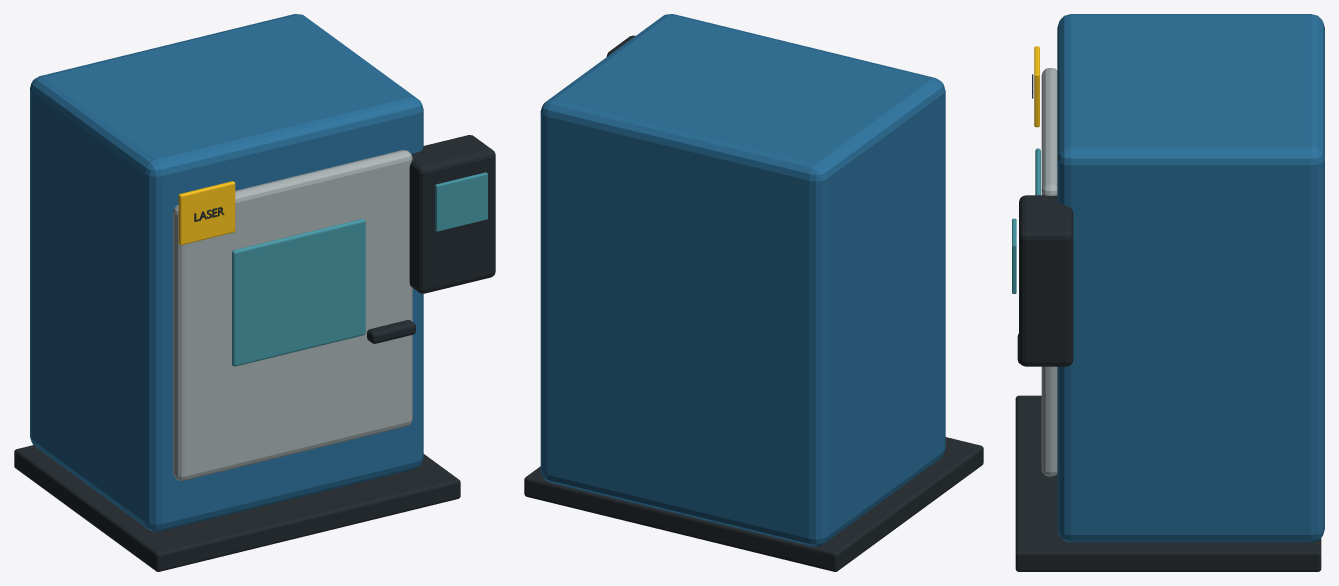
The model's file is enclosed_laser_marking_station.glb.
The picture shows the model from 3 angles, left to right: view 1: azimuth 30°, elevation 25°; view 2: azimuth 150°, elevation 25°; view 3: azimuth 270°, elevation 25°; orthographic projection. The views are drawn at different scales.
Visible parts, largest first — view 1: ENCLOSED_LASER_CABINET, KIN_SAFETY_DOOR, MACHINE_BASE, LASER_WINDOW, HMI_PENDANT, LASER_WARNING, HMI_SCREEN, DOOR_HANDLE; view 2: ENCLOSED_LASER_CABINET, MACHINE_BASE; view 3: ENCLOSED_LASER_CABINET, MACHINE_BASE, HMI_PENDANT, KIN_SAFETY_DOOR, LASER_WARNING.
Boxes of the visible parts, x1,y1,x2,y2 form: ENCLOSED_LASER_CABINET: (30, 14, 423, 531); KIN_SAFETY_DOOR: (173, 150, 412, 480); MACHINE_BASE: (14, 445, 460, 571); LASER_WINDOW: (232, 219, 365, 366); HMI_PENDANT: (409, 135, 495, 293); LASER_WARNING: (178, 181, 235, 245); HMI_SCREEN: (435, 172, 487, 231); DOOR_HANDLE: (367, 320, 415, 343); ENCLOSED_LASER_CABINET: (540, 14, 945, 546); MACHINE_BASE: (524, 437, 983, 571); ENCLOSED_LASER_CABINET: (1057, 14, 1324, 542); MACHINE_BASE: (1015, 395, 1321, 571); HMI_PENDANT: (1019, 195, 1073, 366); KIN_SAFETY_DOOR: (1041, 68, 1057, 476); LASER_WARNING: (1034, 46, 1039, 127).
Size of the model in its own units: 1.85 by 2.01 by 1.38.
